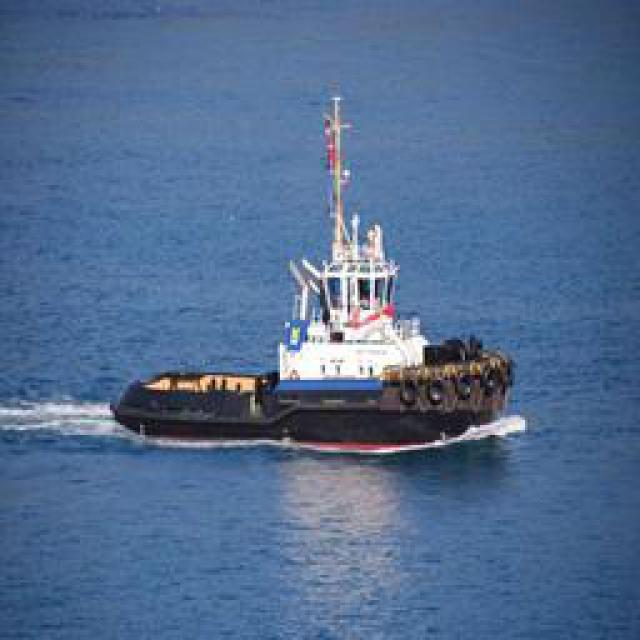Ship: (122, 85, 520, 448)
